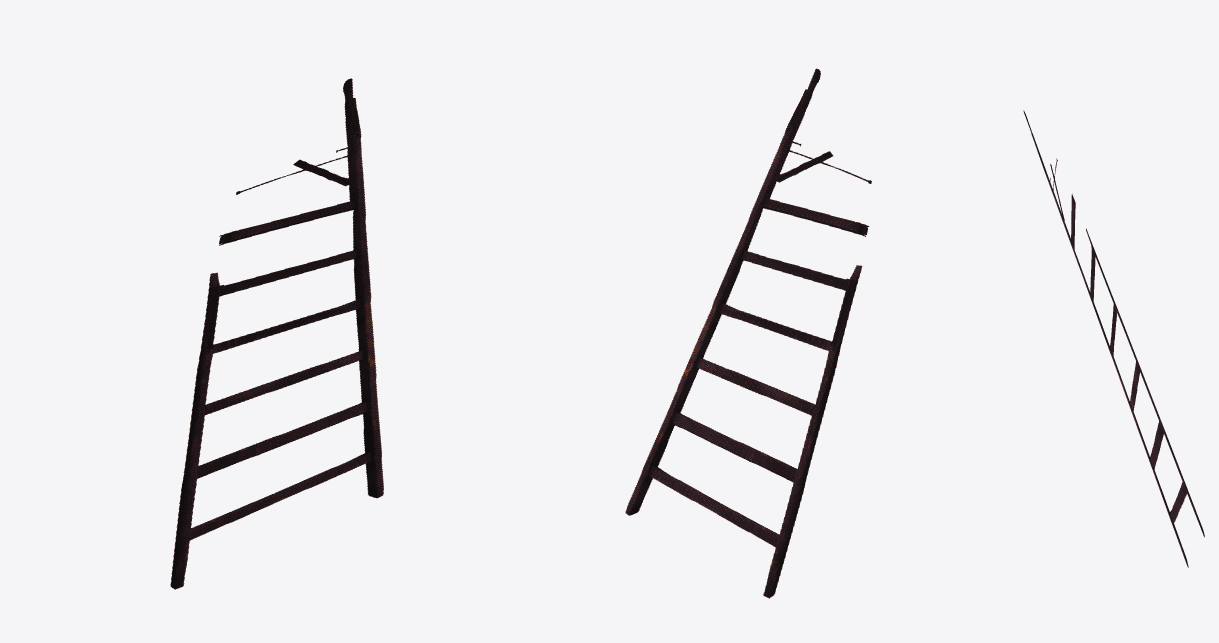
Rendered from 堆積物_梯子.fbx.
3 renders of one model, left to right at view 1: azimuth 30°, elevation 25°; view 2: azimuth 150°, elevation 25°; view 3: azimuth 270°, elevation 25°, orthographic. The views are drawn at different scales.
Parts seen in each view (by area): view 1: 堆積物_梯子; view 2: 堆積物_梯子; view 3: 堆積物_梯子.
Part boxes in pixels (x1,y1,x2,y2): 堆積物_梯子: [170, 78, 383, 589]; 堆積物_梯子: [625, 68, 871, 598]; 堆積物_梯子: [1023, 110, 1204, 567].
Bounding box in the file's own units: 5162 × 7269 × 2678.
Materials: 1 (1 with a texture image).
